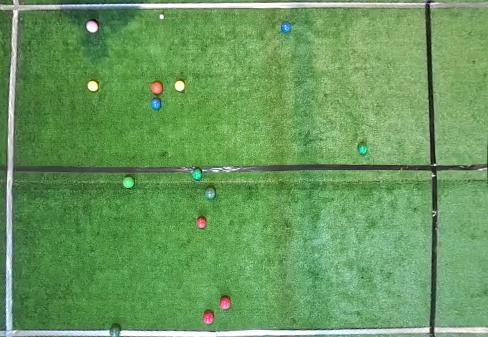blue: (150, 99, 161, 110), (281, 22, 291, 33)
green: (123, 177, 134, 188), (192, 169, 202, 180), (205, 188, 215, 199), (110, 326, 120, 336), (358, 144, 367, 155)
red: (150, 82, 163, 94), (86, 21, 98, 33), (203, 312, 214, 325), (220, 297, 231, 310), (196, 218, 206, 229)
vline: (424, 0, 487, 336), (0, 0, 21, 336)
white: (159, 14, 164, 19)
yellow: (87, 81, 99, 92), (174, 81, 185, 92)
